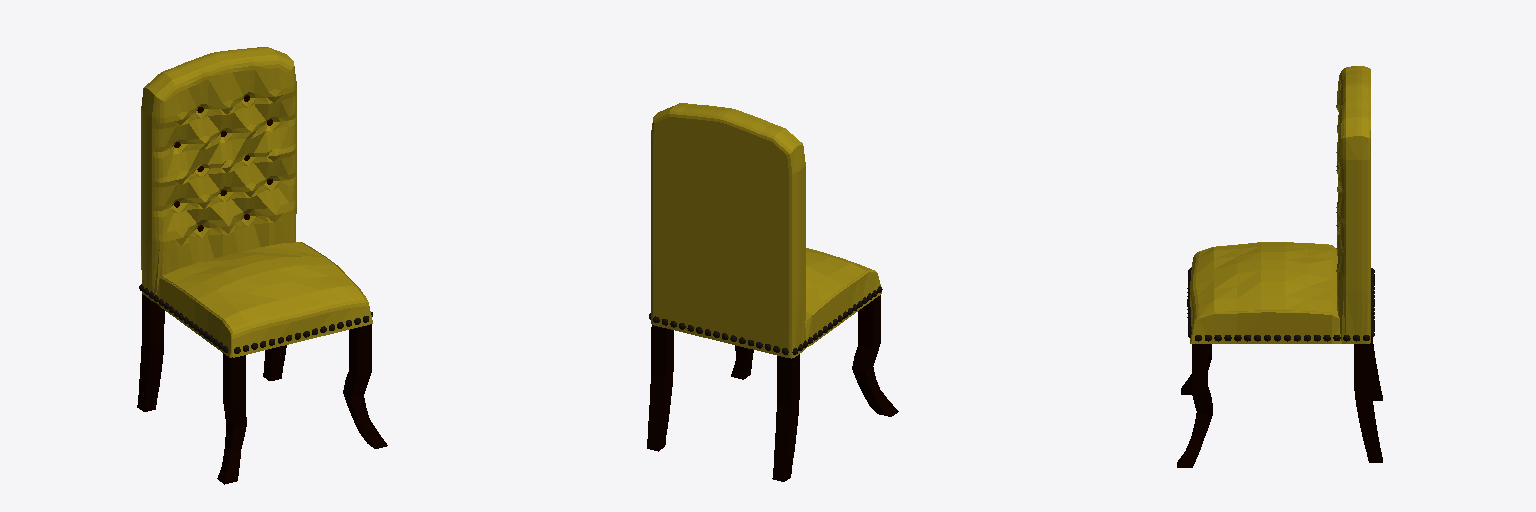
Rendered from chair.obj.
The picture shows the model from 3 angles: view 1: azimuth 30°, elevation 25°; view 2: azimuth 150°, elevation 25°; view 3: azimuth 270°, elevation 25°; orthographic projection.
Visible parts, largest first — view 1: group1 chairBack, group1 chairSeat, group1 legFrontRight, group1 legFrontLeft, group1 legBackRight, group1 legBackLeft; view 2: group1 chairBack, group1 chairSeat, group1 legBackRight, group1 legBackLeft, group1 legFrontRight, group1 legFrontLeft; view 3: group1 chairSeat, group1 chairBack, group1 legFrontLeft, group1 legBackLeft.
Boxes of the visible parts, x1,y1,x2,y2 form: group1 chairBack: [141, 47, 296, 302]; group1 chairSeat: [156, 242, 372, 357]; group1 legFrontRight: [217, 353, 246, 484]; group1 legFrontLeft: [343, 324, 387, 448]; group1 legBackRight: [137, 294, 164, 411]; group1 legBackLeft: [263, 345, 286, 380]; group1 chairBack: [651, 103, 805, 358]; group1 chairSeat: [805, 248, 881, 347]; group1 legBackRight: [772, 354, 799, 481]; group1 legBackLeft: [647, 325, 673, 451]; group1 legFrontRight: [852, 295, 898, 416]; group1 legFrontLeft: [731, 345, 753, 379]; group1 chairSeat: [1190, 242, 1341, 343]; group1 chairBack: [1336, 66, 1370, 343]; group1 legFrontLeft: [1177, 344, 1212, 467]; group1 legBackLeft: [1354, 344, 1382, 462].
Bounding box in the file's own units: 5.67 × 11.52 × 6.21.